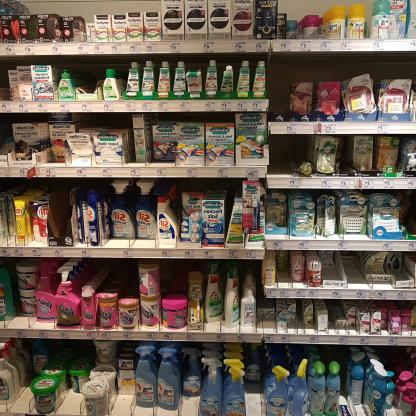empty_space: (48, 178, 75, 246), (269, 53, 292, 123), (269, 134, 292, 177), (0, 56, 11, 100), (328, 298, 337, 334), (297, 298, 305, 333)
